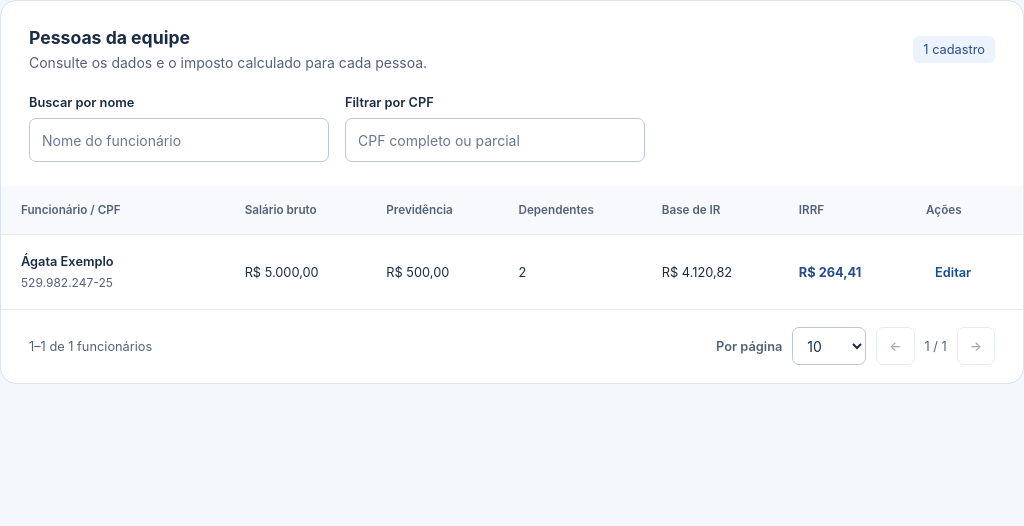
combina filtros, ignora acentos e aceita CPF formatado
The width and height of the screenshot is (1024, 526).
Expected: the text "R$ 264,41" is shown, [799,264,861,280]
Type "AGATA" into the search field labelled "Buscar por nome" at [179, 140], box [29,118,329,162]
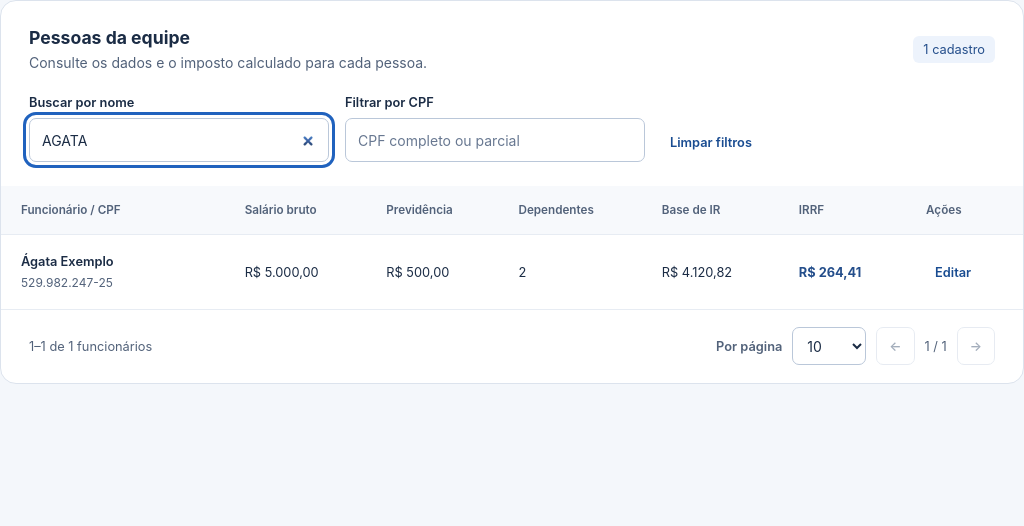
Type "529.982" into the search field labelled "Filtrar por CPF" at [495, 140], box [345,118,645,162]
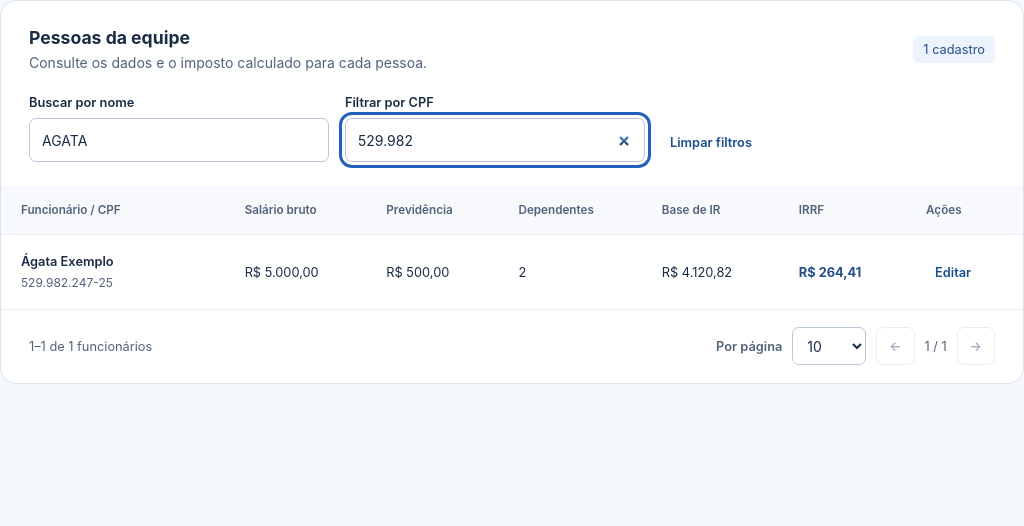
Expected: the text "Ágata Exemplo" is shown, [21,254,114,269]
Type "0" into the search field labelled "Filtrar por CPF" at [495, 140], box [345,118,645,162]
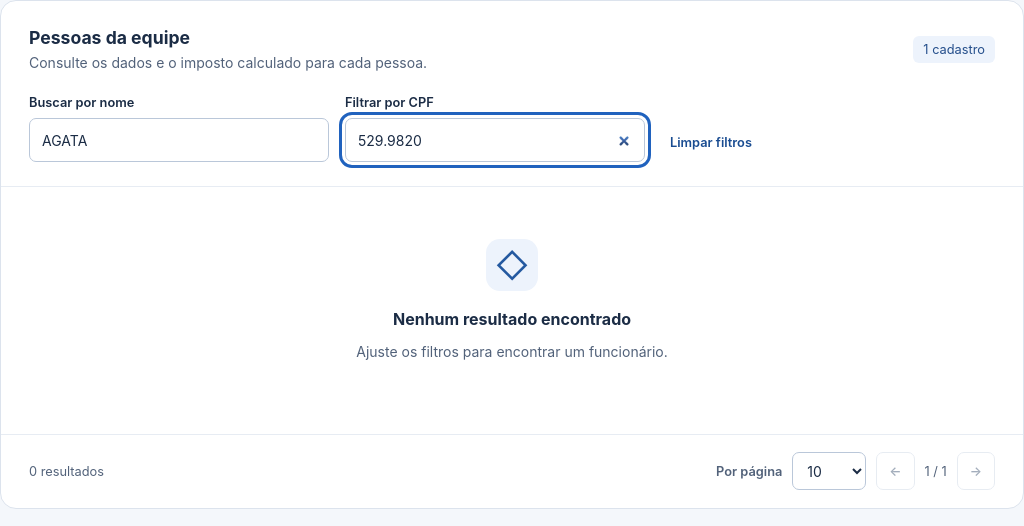
Expected: the heading "Nenhum resultado encontrado" is shown, [393,309,631,329]
Click the button "Limpar filtros" at [711, 142], box [661,122,761,162]
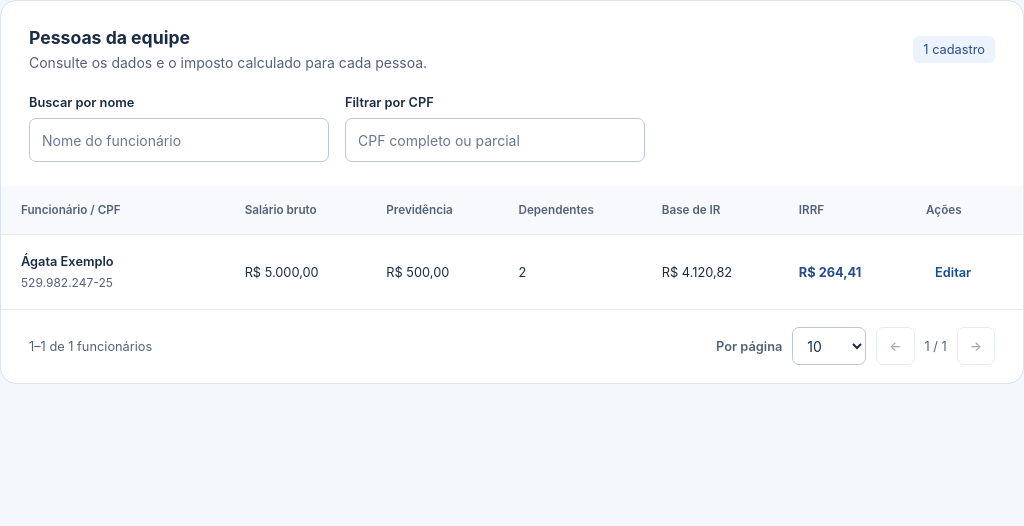
Expected: the text "Ágata Exemplo" is shown, [21,254,114,269]
